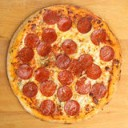pepperonipizza: (8, 5, 123, 121)
